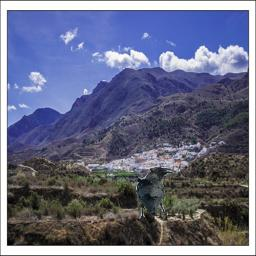Crow: (136, 165, 173, 224)
